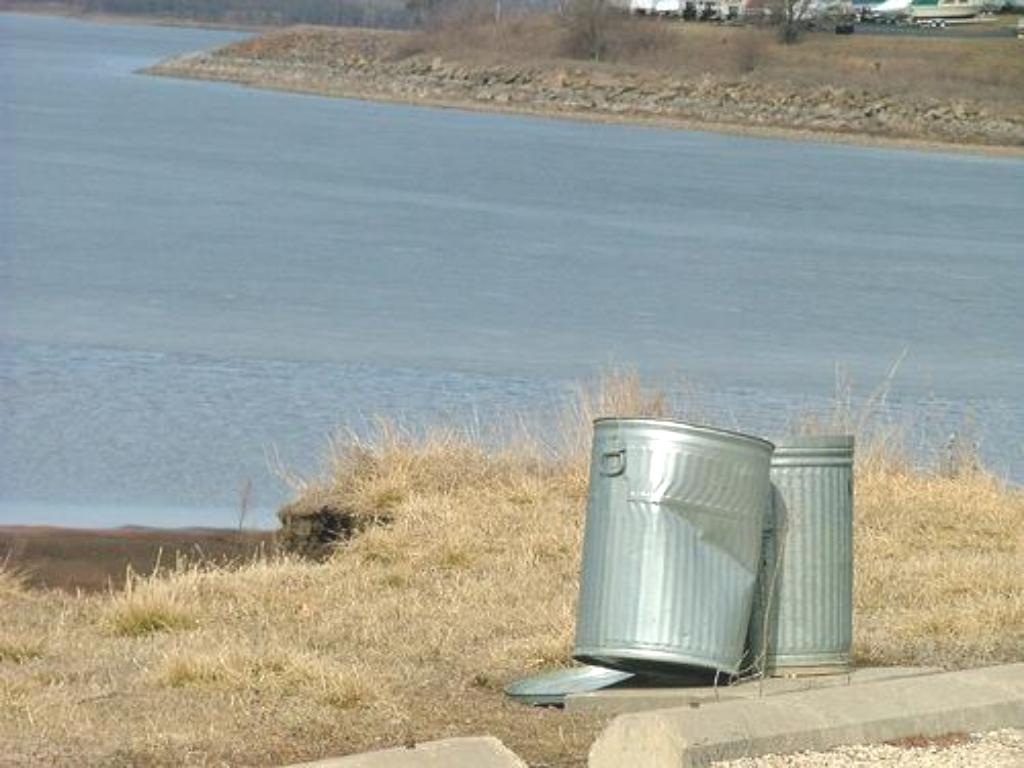dustbin: (592, 412, 857, 700)
